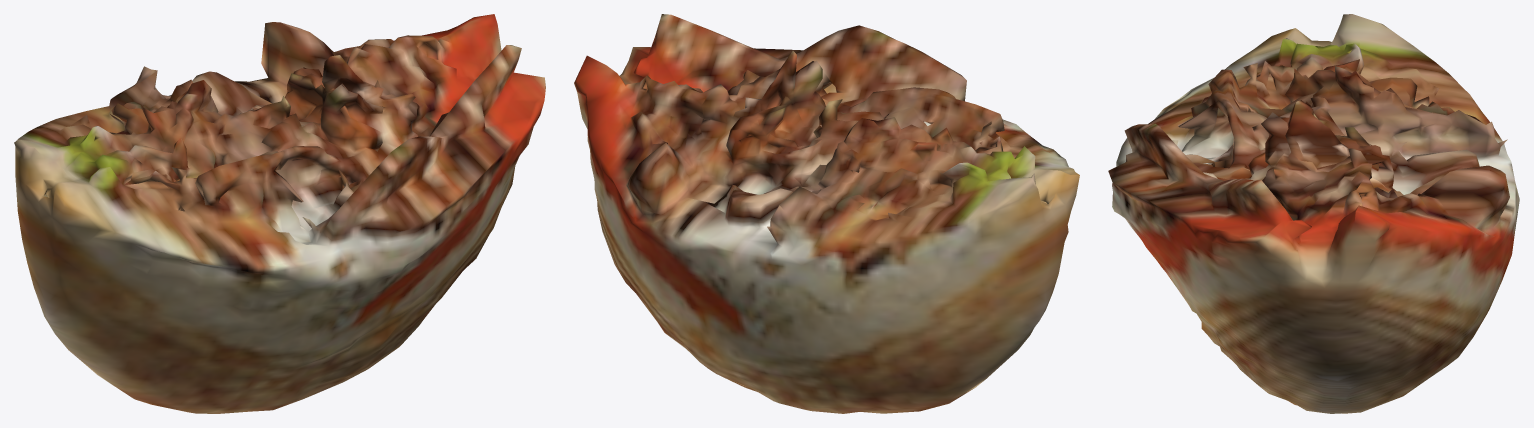
The model's file is Kebab.fbx.
3 renders of one model, left to right at view 1: azimuth 30°, elevation 25°; view 2: azimuth 150°, elevation 25°; view 3: azimuth 270°, elevation 25°, orthographic. The views are drawn at different scales.
Parts seen in each view (by area): view 1: Mesh1.0; view 2: Mesh1.0; view 3: Mesh1.0.
Part boxes in pixels (box(x1,y1,x2,y2)): Mesh1.0: box(14, 14, 545, 413); Mesh1.0: box(574, 14, 1079, 413); Mesh1.0: box(1108, 14, 1519, 413).
Bounding box in the file's own units: 200 × 132 × 160.
